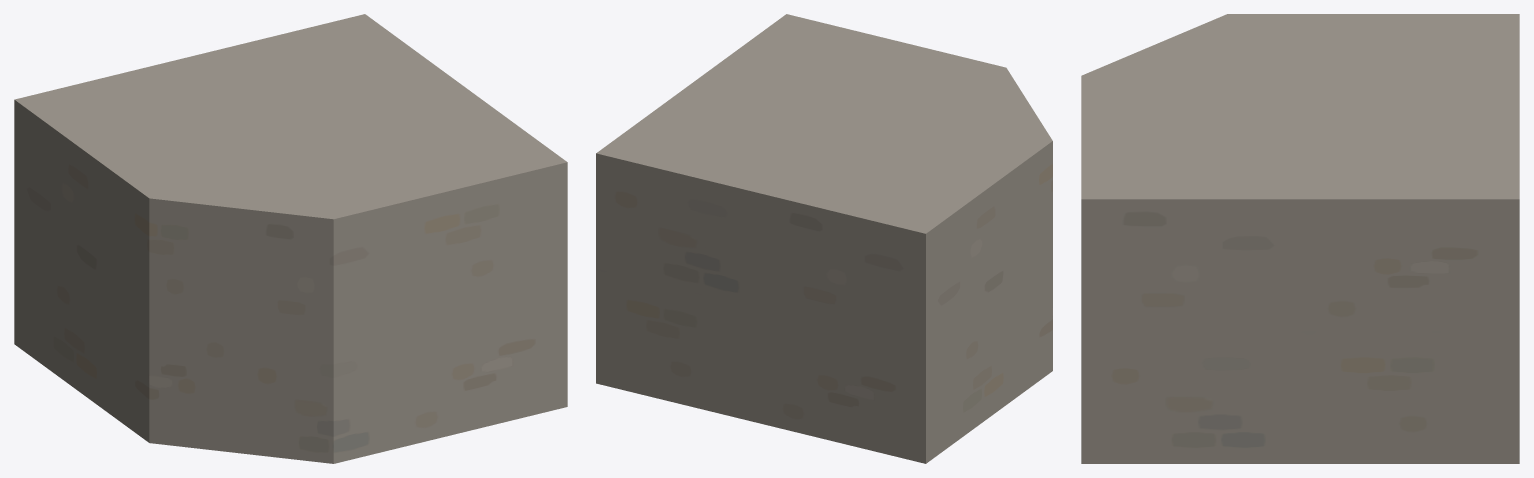
The model's file is Bock_A2.fbx.
The picture shows the model from 3 angles, left to right: view 1: azimuth 30°, elevation 25°; view 2: azimuth 150°, elevation 25°; view 3: azimuth 270°, elevation 25°; orthographic projection. The views are drawn at different scales.
Visible parts, largest first — view 1: Bock_A2; view 2: Bock_A2; view 3: Bock_A2.
Part boxes in pixels (left/top/right/bottom): Bock_A2: left=14, top=14, right=567, bottom=463; Bock_A2: left=596, top=14, right=1052, bottom=463; Bock_A2: left=1081, top=14, right=1519, bottom=463.
Bounding box in the file's own units: 600 × 400 × 600.
1 material, 1 textured.
